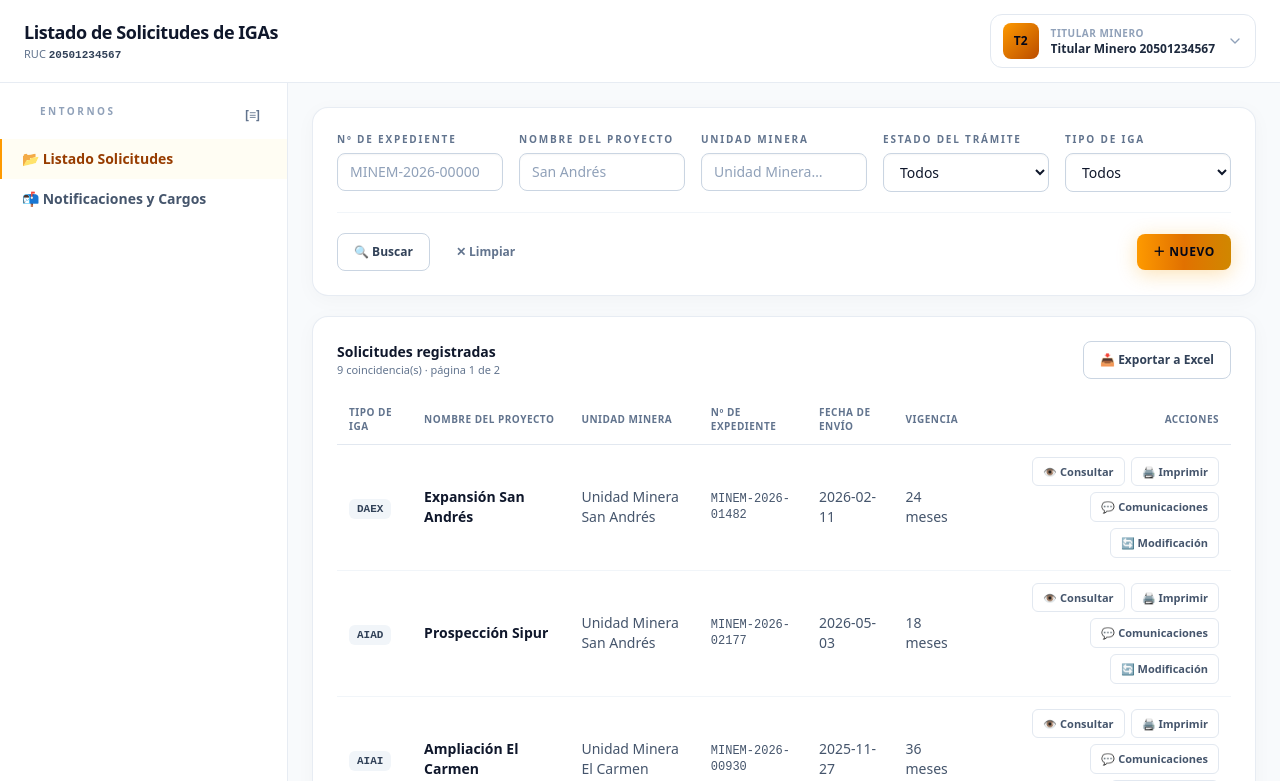
Test case: WorkspaceComponent › Modal esmerilado de selección de IGA › bloquea el CTA hasta elegir instrumento y se cierra al confirmar
Click the button with class "boton-oro" at (1184, 252), box [1137,234,1231,270]
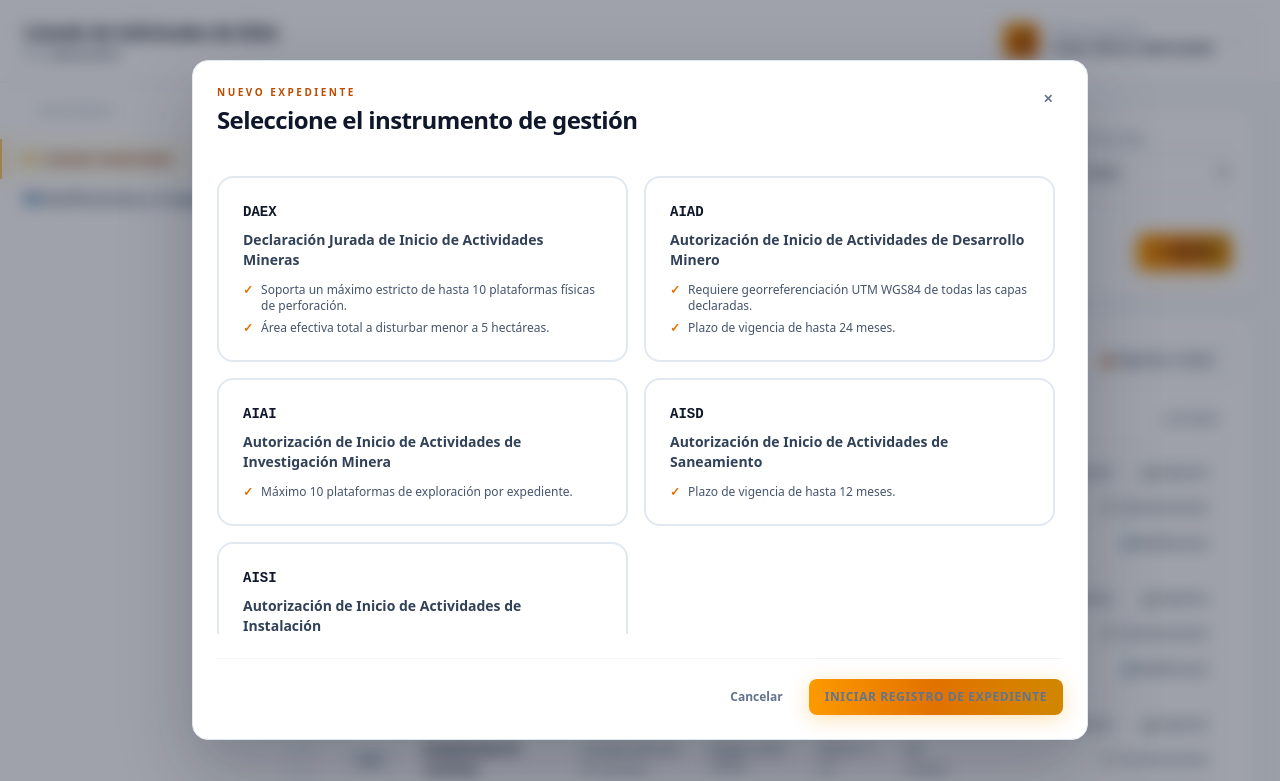
Check: the button "Iniciar Registro de Expediente" is disabled, box [809,679,1063,715]
Click the button with class "iga-tarjeta" that starts with "DAEX" at (260, 212), box [217,176,628,362]
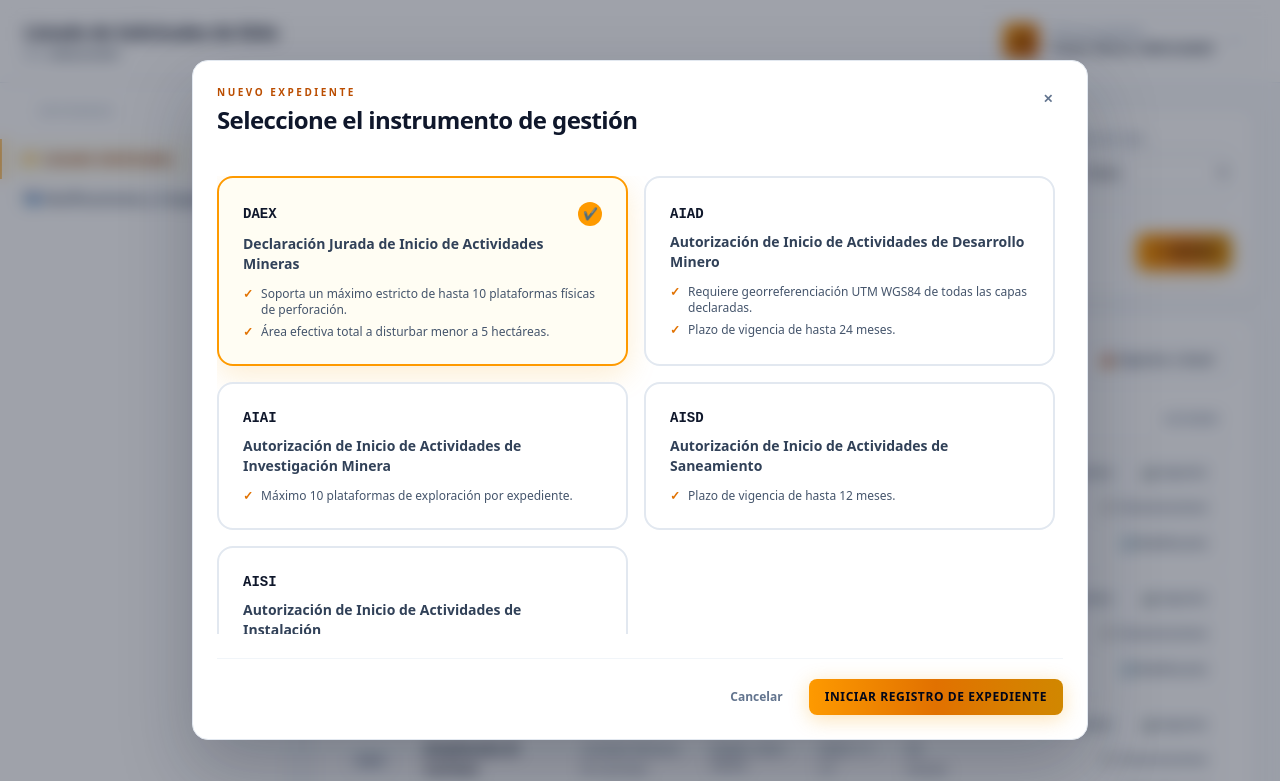
Check: the button "Iniciar Registro de Expediente" is enabled
Click the button "Iniciar Registro de Expediente" at (936, 697), box [809,679,1063,715]
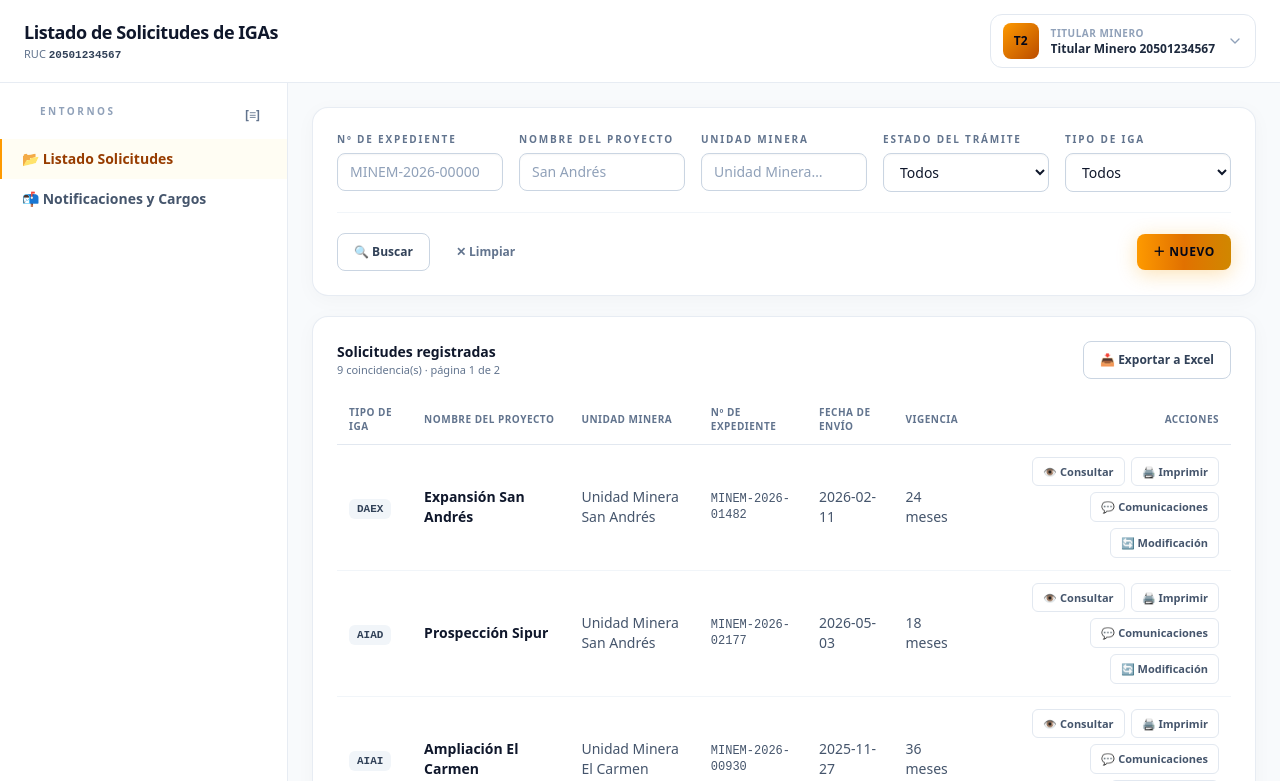
Check: the dialog is gone
